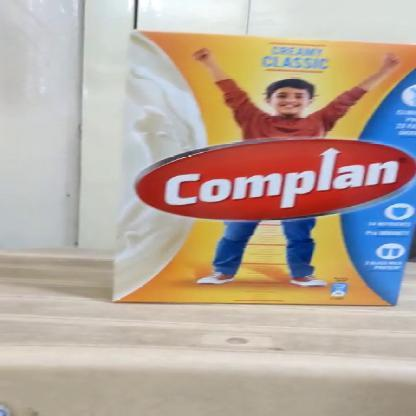Complan Classic Creme: (115, 31, 414, 302)
